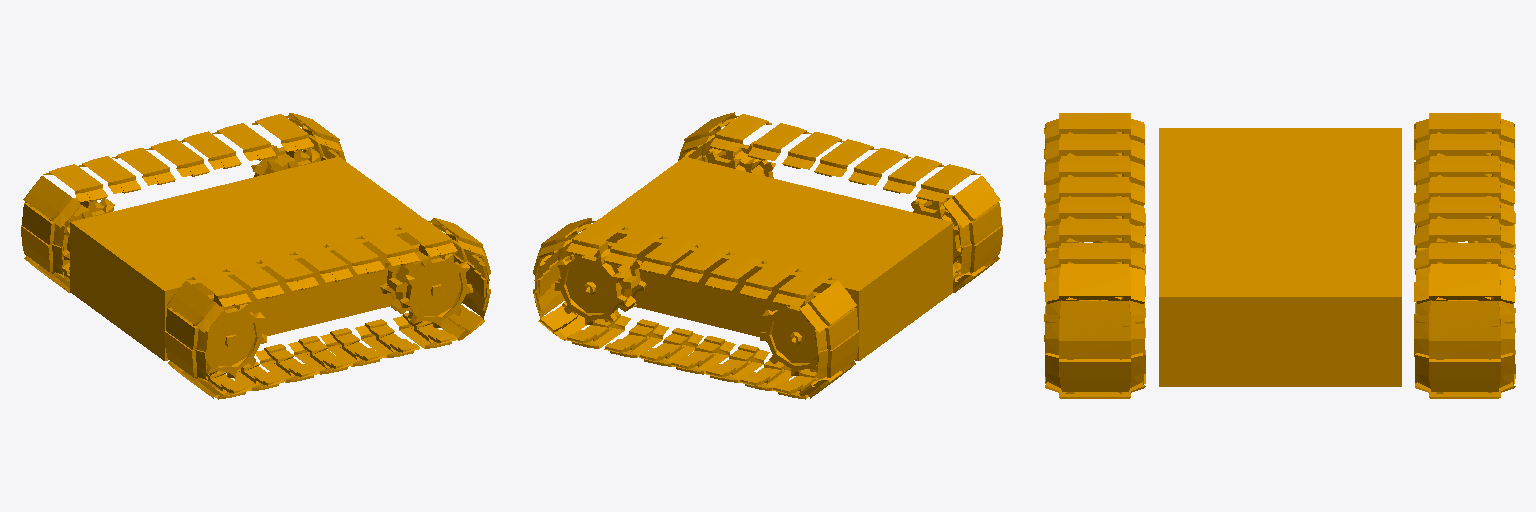
robot.urdf — track:
<?xml version="1.0" encoding="utf-8"?>
<robot name="track">
<gazebo>
<plugin name="gazebo_ros_control" filename="libgazebo_ros_control.so">
<robotNamespace>/track</robotNamespace>
</plugin>
</gazebo>

<!--gazebo>
<plugin name="buyoancy_plugin" filename="libBuoyancyPlugin.so">
<fluid_density>37.739055</fluid_density>
<link name="base_link" />
<link name='servoL_mount_1'/>
<link name='servoL_mount_2'/>
<link name='servoL_mount_3'/>
<link name='servoL_mount_4'/>
<link name='servoR_mount_1'/>
<link name='servoR_mount_2'/>
<link name='servoR_mount_3'/>
<link name='servoR_mount_4'/>
</plugin>
</gazebo-->
<link name="base_link">
<inertial>
<origin
xyz="0.0 0.0 0.14"
rpy="0 0 0" />
<mass
value="1.0" />
<inertia
ixx="0.03862166"
ixy="0.0"
ixz="0.0"
iyy="0.0277856"
iyz="0.0"
izz="0.0608866" />
</inertial>
<visual>
<origin xyz="0.0 0.0 0.14" rpy="0.0 0.0 0.0" />
<geometry>
<mesh filename="package://uhugv/meshes/uhugv.dae" />    
</geometry>    
</visual>
<collision>
<origin xyz="0.0 0.0 0.14" rpy="0.0 0.0 0.0" />
<geometry>
<box size="0.548 0.656 0.182"/>
</geometry>  
</collision>
</link>
<gazebo reference="base_link"/>
<link name='servoL_mount_1'>
<inertial>
<origin
xyz="0.0 0.1 0.0"
rpy="0 0 0" />
<mass
value="0.2" />
<inertia
ixx="0.0006683"
ixy="0.0"
ixz="0.0"
iyy="0.00016833"
iyz="0.0"
izz="0.00083333" />
</inertial>
<visual>
<origin xyz="0.0 0.1 0.0" rpy="0.0 0.0 0.0" />
<geometry>
<mesh filename="package://uhugv/meshes/servo.dae" />    
</geometry>    
</visual>
<collision>
<origin xyz="0.0 0.1 0.0" rpy="0.0 0.0 0.0" />
<geometry>
<box size="0.1 0.02 0.01"/>
</geometry>  
</collision>
</link>
<gazebo reference="servoL_mount_1"/>
<joint name="servoL_1" type="revolute">
<origin xyz="0.21 0.31 0.14" rpy="0 0 0" />
<parent link="base_link"/>
<child link="servoL_mount_1" />
<axis xyz="1.0 0.0 0.0"/>
<dynamics damping="0.1" friction="0.1"/>
<limit effort="1.0" velocity="100" lower="-1.57" upper="1.57" />
</joint>
<link name='servoL_mount_2'>
<inertial>
<origin
xyz="0.0 0.1 0.0"
rpy="0 0 0" />
<mass
value="0.2" />
<inertia
ixx="0.0006683"
ixy="0.0"
ixz="0.0"
iyy="0.00016833"
iyz="0.0"
izz="0.00083333" />
</inertial>
<visual>
<origin xyz="0.0 0.1 0.0" rpy="0.0 0.0 0.0" />
<geometry>
<mesh filename="package://uhugv/meshes/servo.dae" />    
</geometry>    
</visual>
<collision>
<origin xyz="0.0 0.1 0.0" rpy="0.0 0.0 0.0" />
<geometry>
<box size="0.1 0.02 0.01"/>
</geometry>  
</collision>
</link>
<gazebo reference="servoL_mount_2"/>
<joint name="servoL_2" type="revolute">
<origin xyz="0.11 0.31 0.14" rpy="0 0 0" />
<parent link="base_link"/>
<child link="servoL_mount_2" />
<axis xyz="1.0 0.0 0.0"/>
<dynamics damping="0.1" friction="0.1"/>
<limit effort="1.0" velocity="100" lower="-1.57" upper="1.57" />
</joint>
<link name='servoL_mount_3'>
<inertial>
<origin
xyz="0.0 0.1 0.0"
rpy="0 0 0" />
<mass
value="0.2" />
<inertia
ixx="0.0006683"
ixy="0.0"
ixz="0.0"
iyy="0.00016833"
iyz="0.0"
izz="0.00083333" />
</inertial>
<visual>
<origin xyz="0.0 0.1 0.0" rpy="0.0 0.0 0.0" />
<geometry>
<mesh filename="package://uhugv/meshes/servo.dae" />    
</geometry>    
</visual>
<collision>
<origin xyz="0.0 0.1 0.0" rpy="0.0 0.0 0.0" />
<geometry>
<box size="0.1 0.02 0.01"/>
</geometry>  
</collision>
</link>
<gazebo reference="servoL_mount_3"/>
<joint name="servoL_3" type="revolute">
<origin xyz="0.0 0.31 0.14" rpy="0 0 0" />
<parent link="base_link"/>
<child link="servoL_mount_3" />
<axis xyz="1.0 0.0 0.0"/>
<dynamics damping="0.1" friction="0.1"/>
<limit effort="1.0" velocity="100" lower="-1.57" upper="1.57" />
</joint>
<link name='servoL_mount_4'>
<inertial>
<origin
xyz="0.0 0.1 0.0"
rpy="0 0 0" />
<mass
value="0.2" />
<inertia
ixx="0.0006683"
ixy="0.0"
ixz="0.0"
iyy="0.00016833"
iyz="0.0"
izz="0.00083333" />
</inertial>
<visual>
<origin xyz="0.0 0.1 0.0" rpy="0.0 0.0 0.0" />
<geometry>
<mesh filename="package://uhugv/meshes/servo.dae" />    
</geometry>    
</visual>
<collision>
<origin xyz="0.0 0.1 0.0" rpy="0.0 0.0 0.0" />
<geometry>
<box size="0.1 0.02 0.01"/>
</geometry>  
</collision>
</link>
<gazebo reference="servoL_mount_4"/>
<joint name="servoL_4" type="revolute">
<origin xyz="-0.11 0.31 0.14" rpy="0 0 0" />
<parent link="base_link"/>
<child link="servoL_mount_4" />
<axis xyz="1.0 0.0 0.0"/>
<dynamics damping="0.1" friction="0.1"/>
<limit effort="1.0" velocity="100" lower="-1.57" upper="1.57" />
</joint>

<link name='servoR_mount_1'>
<inertial>
<origin
xyz="0.0 -0.1 0.0"
rpy="0 0 0" />
<mass
value="0.2" />
<inertia
ixx="0.0006683"
ixy="0.0"
ixz="0.0"
iyy="0.00016833"
iyz="0.0"
izz="0.00083333" />
</inertial>
<visual>
<origin xyz="0.0 -0.1 0.0" rpy="0.0 0.0 0.0" />
<geometry>
<mesh filename="package://uhugv/meshes/servo.dae" />    
</geometry>    
</visual>
<collision>
<origin xyz="0.0 -0.1 0.0" rpy="0.0 0.0 0.0" />
<geometry>
<box size="0.1 0.02 0.01"/>
</geometry>  
</collision>
</link>
<gazebo reference="servoR_mount_1"/>
<joint name="servoR_1" type="revolute">
<origin xyz="0.21 -0.31 0.14" rpy="0 0 0" />
<parent link="base_link"/>
<child link="servoR_mount_1" />
<axis xyz="1.0 0.0 0.0"/>
<dynamics damping="0.1" friction="0.1"/>
<limit effort="1.0" velocity="100" lower="-1.57" upper="1.57" />
</joint>
<link name='servoR_mount_2'>
<inertial>
<origin
xyz="0.0 -0.1 0.0"
rpy="0 0 0" />
<mass
value="0.2" />
<inertia
ixx="0.0006683"
ixy="0.0"
ixz="0.0"
iyy="0.00016833"
iyz="0.0"
izz="0.00083333" />
</inertial>
<visual>
<origin xyz="0.0 -0.1 0.0" rpy="0.0 0.0 0.0" />
<geometry>
<mesh filename="package://uhugv/meshes/servo.dae" />    
</geometry>    
</visual>
<collision>
<origin xyz="0.0 -0.1 0.0" rpy="0.0 0.0 0.0" />
<geometry>
<box size="0.1 0.02 0.01"/>
</geometry>  
</collision>
</link>
<gazebo reference="servoR_mount_2"/>
<joint name="servoR_2" type="revolute">
<origin xyz="0.11 -0.31 0.14" rpy="0 0 0" />
<parent link="base_link"/>
<child link="servoR_mount_2" />
<axis xyz="1.0 0.0 0.0"/>
<dynamics damping="0.1" friction="0.1"/>
<limit effort="1.0" velocity="100" lower="-1.57" upper="1.57" />
</joint>
<link name='servoR_mount_3'>
<inertial>
<origin
xyz="0 -0.1 0"
rpy="0 0 0" />
<mass
value="0.2" />
<inertia
ixx="0.0006683"
ixy="0.0"
ixz="0.0"
iyy="0.00016833"
iyz="0.0"
izz="0.00083333" />
</inertial>
<visual>
<origin xyz="0 -0.1 0" rpy="0.0 0.0 0.0" />
<geometry>
<mesh filename="package://uhugv/meshes/servo.dae" />    
</geometry>    
</visual>
<collision>
<origin xyz="0 -0.1 0" rpy="0.0 0.0 0.0" />
<geometry>
<box size="0.1 0.02 0.01"/>
</geometry>  
</collision>
</link>
<gazebo reference="servoR_mount_3"/>
<joint name="servoR_3" type="revolute">
<origin xyz="0.0 -0.31 0.14" rpy="0 0 0" />
<parent link="base_link"/>
<child link="servoR_mount_3" />
<axis xyz="1.0 0.0 0.0"/>
<dynamics damping="0.1" friction="0.1"/>
<limit effort="1.0" velocity="100" lower="-1.57" upper="1.57" />
</joint>
<link name='servoR_mount_4'>
<inertial>
<origin
xyz="0.0 -0.1 0.0"
rpy="0 0 0" />
<mass
value="0.2" />
<inertia
ixx="0.0006683"
ixy="0.0"
ixz="0.0"
iyy="0.00016833"
iyz="0.0"
izz="0.00083333" />
</inertial>
<visual>
<origin xyz="0.0 -0.1 0.0" rpy="0.0 0.0 0.0" />
<geometry>
<mesh filename="package://uhugv/meshes/servo.dae" />    
</geometry>    
</visual>
<collision>
<origin xyz="0.0 -0.1 0.0" rpy="0.0 0.0 0.0" />
<geometry>
<box size="0.1 0.02 0.01"/>
</geometry>  
</collision>
</link>
<gazebo reference="servoR_mount_4"/>
<joint name="servoR_4" type="revolute">
<origin xyz="-0.11 -0.31 0.14" rpy="0 0 0" />
<parent link="base_link"/>
<child link="servoR_mount_4" />
<axis xyz="1.0 0.0 0.0"/>
<dynamics damping="0.1" friction="0.1"/>
    <limit effort="1.0" velocity="100" lower="-1.57" upper="1.57" />
    </joint>
  <transmission name="servoL1_trans">
    <type>transmission_interface/SimpleTransmission</type>
    <joint name="servoL_1">
      <hardwareInterface>hardware_interface/EffortJointInterface</hardwareInterface>
    </joint>
    <actuator name="servoL1_motor">
      <hardwareInterface>hardware_interface/EffortJointInterface</hardwareInterface>
      <mechanicalReduction>1</mechanicalReduction>
    </actuator>
  </transmission>
  <transmission name="servoL2_trans">
    <type>transmission_interface/SimpleTransmission</type>
    <joint name="servoL_2">
      <hardwareInterface>hardware_interface/EffortJointInterface</hardwareInterface>
    </joint>
    <actuator name="servoL2_motor">
      <hardwareInterface>hardware_interface/EffortJointInterface</hardwareInterface>
      <mechanicalReduction>1</mechanicalReduction>
    </actuator>
  </transmission>
  <transmission name="servoL3_trans">
    <type>transmission_interface/SimpleTransmission</type>
    <joint name="servoL_3">
      <hardwareInterface>hardware_interface/EffortJointInterface</hardwareInterface>
    </joint>
    <actuator name="servoL3_motor">
      <hardwareInterface>hardware_interface/EffortJointInterface</hardwareInterface>
      <mechanicalReduction>1</mechanicalReduction>
    </actuator>
  </transmission>
  <transmission name="servoL4_trans">
    <type>transmission_interface/SimpleTransmission</type>
    <joint name="servoL_4">
      <hardwareInterface>hardware_interface/EffortJointInterface</hardwareInterface>
    </joint>
    <actuator name="servoL4_motor">
      <hardwareInterface>hardware_interface/EffortJointInterface</hardwareInterface>
      <mechanicalReduction>1</mechanicalReduction>
    </actuator>
  </transmission>
  <transmission name="servoR1_trans">
    <type>transmission_interface/SimpleTransmission</type>
    <joint name="servoR_1">
      <hardwareInterface>hardware_interface/EffortJointInterface</hardwareInterface>
    </joint>
    <actuator name="servoR1_motor">
      <hardwareInterface>hardware_interface/EffortJointInterface</hardwareInterface>
      <mechanicalReduction>1</mechanicalReduction>
    </actuator>
  </transmission>
  <transmission name="servoR2_trans">
    <type>transmission_interface/SimpleTransmission</type>
    <joint name="servoR_2">
      <hardwareInterface>hardware_interface/EffortJointInterface</hardwareInterface>
    </joint>
    <actuator name="servoR2_motor">
      <hardwareInterface>hardware_interface/EffortJointInterface</hardwareInterface>
      <mechanicalReduction>1</mechanicalReduction>
    </actuator>
  </transmission>
  <transmission name="servoR3_trans">
    <type>transmission_interface/SimpleTransmission</type>
    <joint name="servoR_3">
      <hardwareInterface>hardware_interface/EffortJointInterface</hardwareInterface>
    </joint>
    <actuator name="servoR3_motor">
      <hardwareInterface>hardware_interface/EffortJointInterface</hardwareInterface>
      <mechanicalReduction>1</mechanicalReduction>
    </actuator>
  </transmission>
  <transmission name="servoR4_trans">
    <type>transmission_interface/SimpleTransmission</type>
    <joint name="servoR_4">
      <hardwareInterface>hardware_interface/EffortJointInterface</hardwareInterface>
    </joint>
    <actuator name="servoR4_motor">
      <hardwareInterface>hardware_interface/EffortJointInterface</hardwareInterface>
      <mechanicalReduction>1</mechanicalReduction>
    </actuator>
  </transmission>
</robot>

--- Facts derived from the render (not from the file) ---
Views: 3 orthographic renders of the robot side by side, from view 1: azimuth 30°, elevation 25°; view 2: azimuth 150°, elevation 25°; view 3: azimuth 270°, elevation 25°.
Robot: track — 9 links, 8 joints (8 revolute); root link base_link; default pose: every joint at zero.
Links seen in each view (by area): view 1: base_link; view 2: base_link; view 3: base_link.
Boxes of the visible links, left/top/right/bottom form: base_link: left=21, top=113, right=490, bottom=399; base_link: left=533, top=112, right=1002, bottom=399; base_link: left=1044, top=113, right=1515, bottom=398.
Bounding box of the posed robot: 0.6244 × 0.6601 × 0.209 m (x, y, z).
Meshes: 2 distinct files referenced, 1 mesh visuals loaded (1 Collada DAE); not drawn: 8 (reference not matched to a file when rendering).